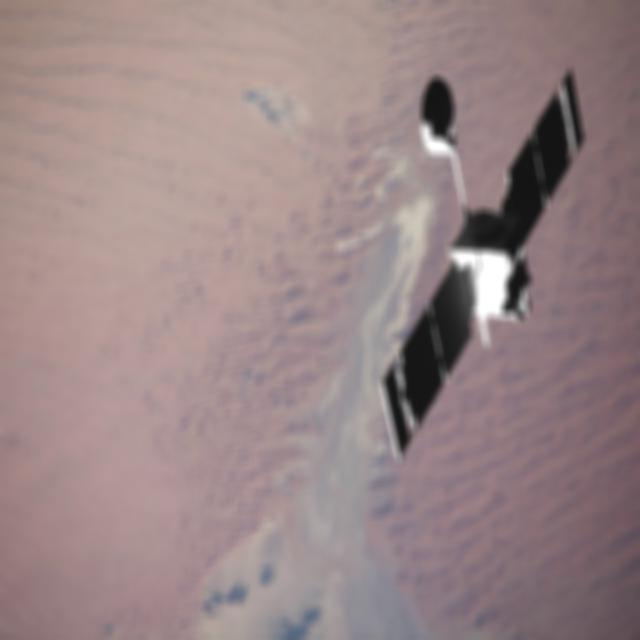satellite: (343, 60, 591, 467)
